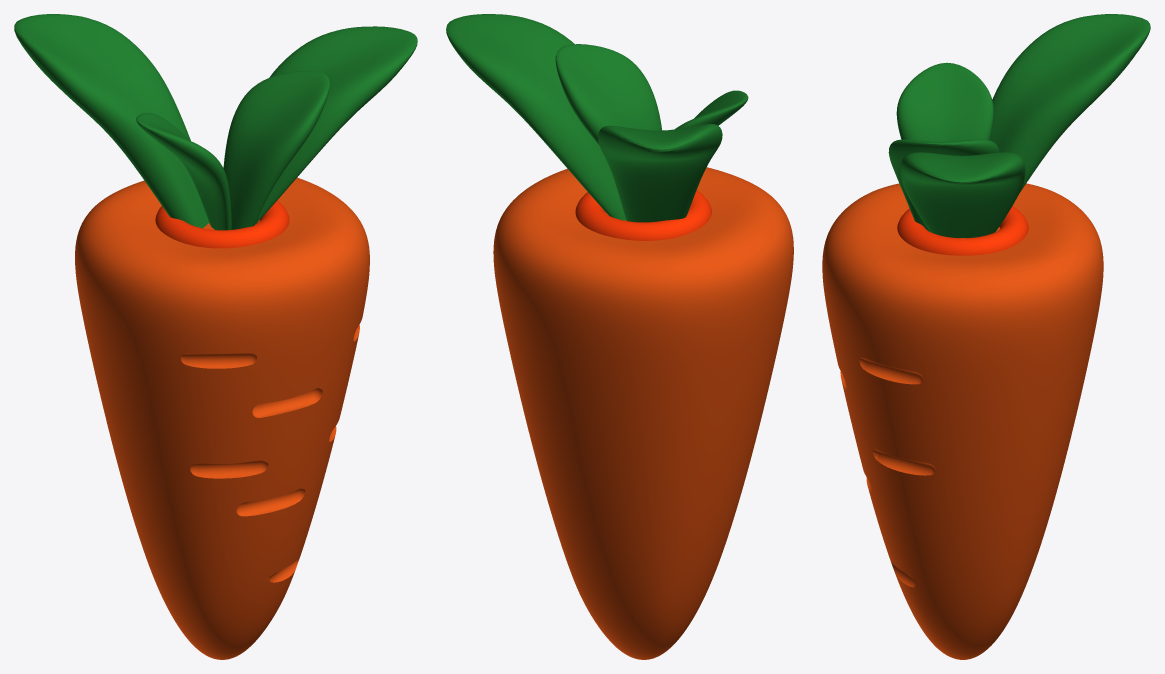
Rendered from carrot.fbx.
3 renders of one model, left to right at view 1: azimuth 30°, elevation 25°; view 2: azimuth 150°, elevation 25°; view 3: azimuth 270°, elevation 25°, orthographic. The views are drawn at different scales.
Visible parts, largest first — view 1: Cube.001, Cube.004, Cube.002, Cube, Cube.003, Torus; view 2: Cube.001, Cube, Cube.004, Cube.002, Torus, Cube.003; view 3: Cube.001, Cube.004, Cube, Cube.003, Torus, Cube.002.
Part boxes in pixels (x1,y1,x2,y2): Cube.001: [75, 167, 369, 659]; Cube.004: [14, 14, 209, 228]; Cube.002: [223, 70, 329, 229]; Cube: [255, 26, 417, 224]; Cube.003: [136, 113, 231, 230]; Torus: [155, 200, 289, 248]; Cube.001: [493, 167, 793, 659]; Cube: [446, 14, 625, 220]; Cube.004: [598, 124, 722, 222]; Cube.002: [555, 44, 662, 145]; Torus: [575, 190, 711, 240]; Cube.003: [675, 90, 748, 129]; Cube.001: [822, 183, 1103, 659]; Cube.004: [989, 14, 1150, 192]; Cube: [900, 152, 1025, 237]; Cube.003: [896, 62, 993, 141]; Torus: [897, 206, 1028, 255]; Cube.002: [888, 139, 999, 231].
Size of the model in its own units: 99.42 by 178 by 90.79.
